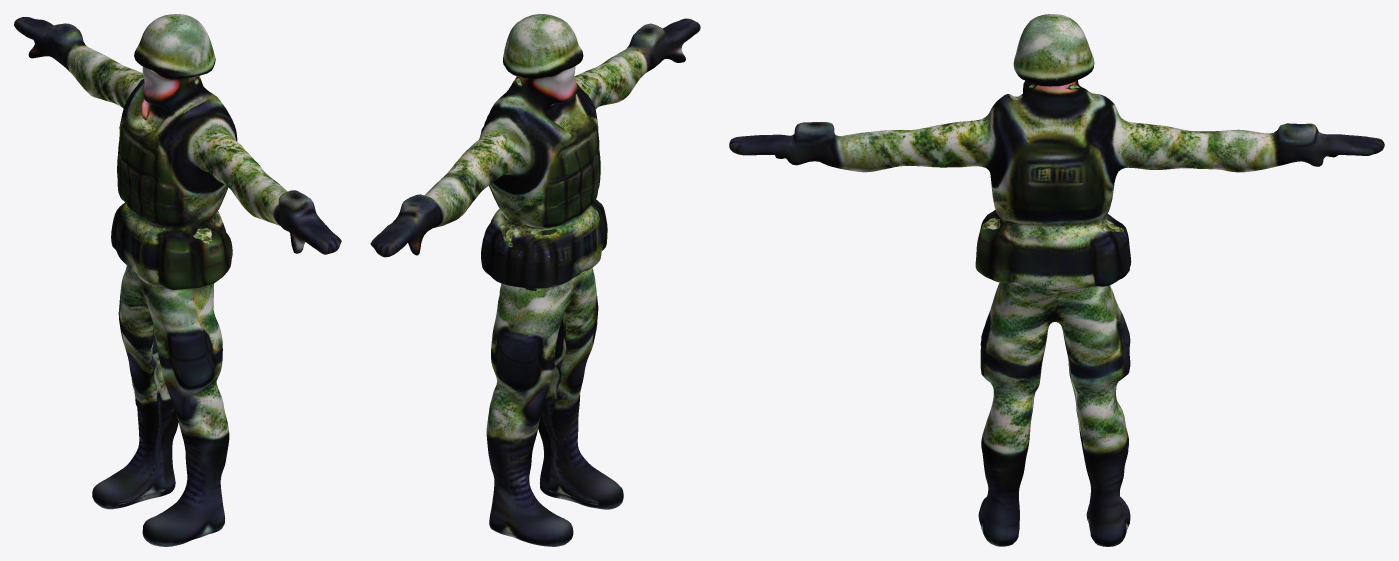
The model's file is d69f1ac68f74_solider_min.obj.
The picture shows the model from 3 angles, left to right: view 1: azimuth 30°, elevation 25°; view 2: azimuth 150°, elevation 25°; view 3: azimuth 270°, elevation 25°; orthographic projection. The views are drawn at different scales.
Visible parts, largest first — view 1: mesh; view 2: mesh; view 3: mesh.
Boxes of the visible parts, x1,y1,x2,y2 form: mesh: [14, 14, 341, 546]; mesh: [370, 14, 700, 546]; mesh: [729, 14, 1384, 546].
Bounding box in the file's own units: 0.1857 × 0.8751 × 0.9989.
1 material, 1 textured.
